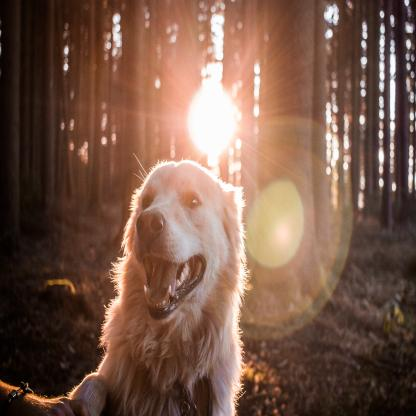dog: (0, 160, 243, 411)
